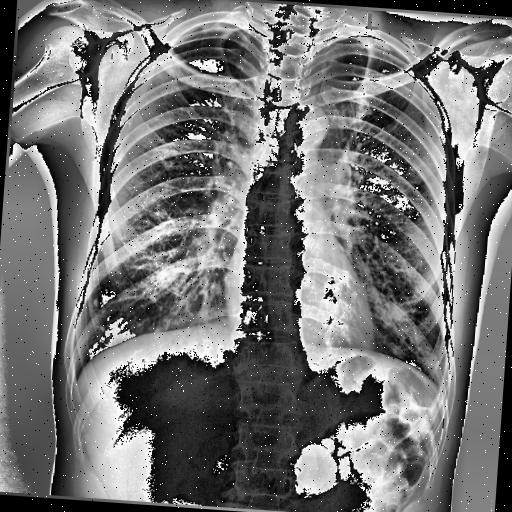0- Aortic enlargement: (286, 102, 330, 144)
11- Pleural thickening: (356, 34, 410, 62), (186, 12, 246, 37), (349, 30, 399, 50), (189, 20, 234, 38)
13- Pulmonary fibrosis: (347, 81, 378, 148)
2- Calcification: (92, 297, 100, 309), (98, 324, 106, 335)
5- ILD: (340, 185, 454, 371), (106, 168, 226, 339), (116, 198, 188, 334), (368, 263, 426, 356)
9- Other lesion: (91, 296, 101, 308), (98, 326, 106, 334)
